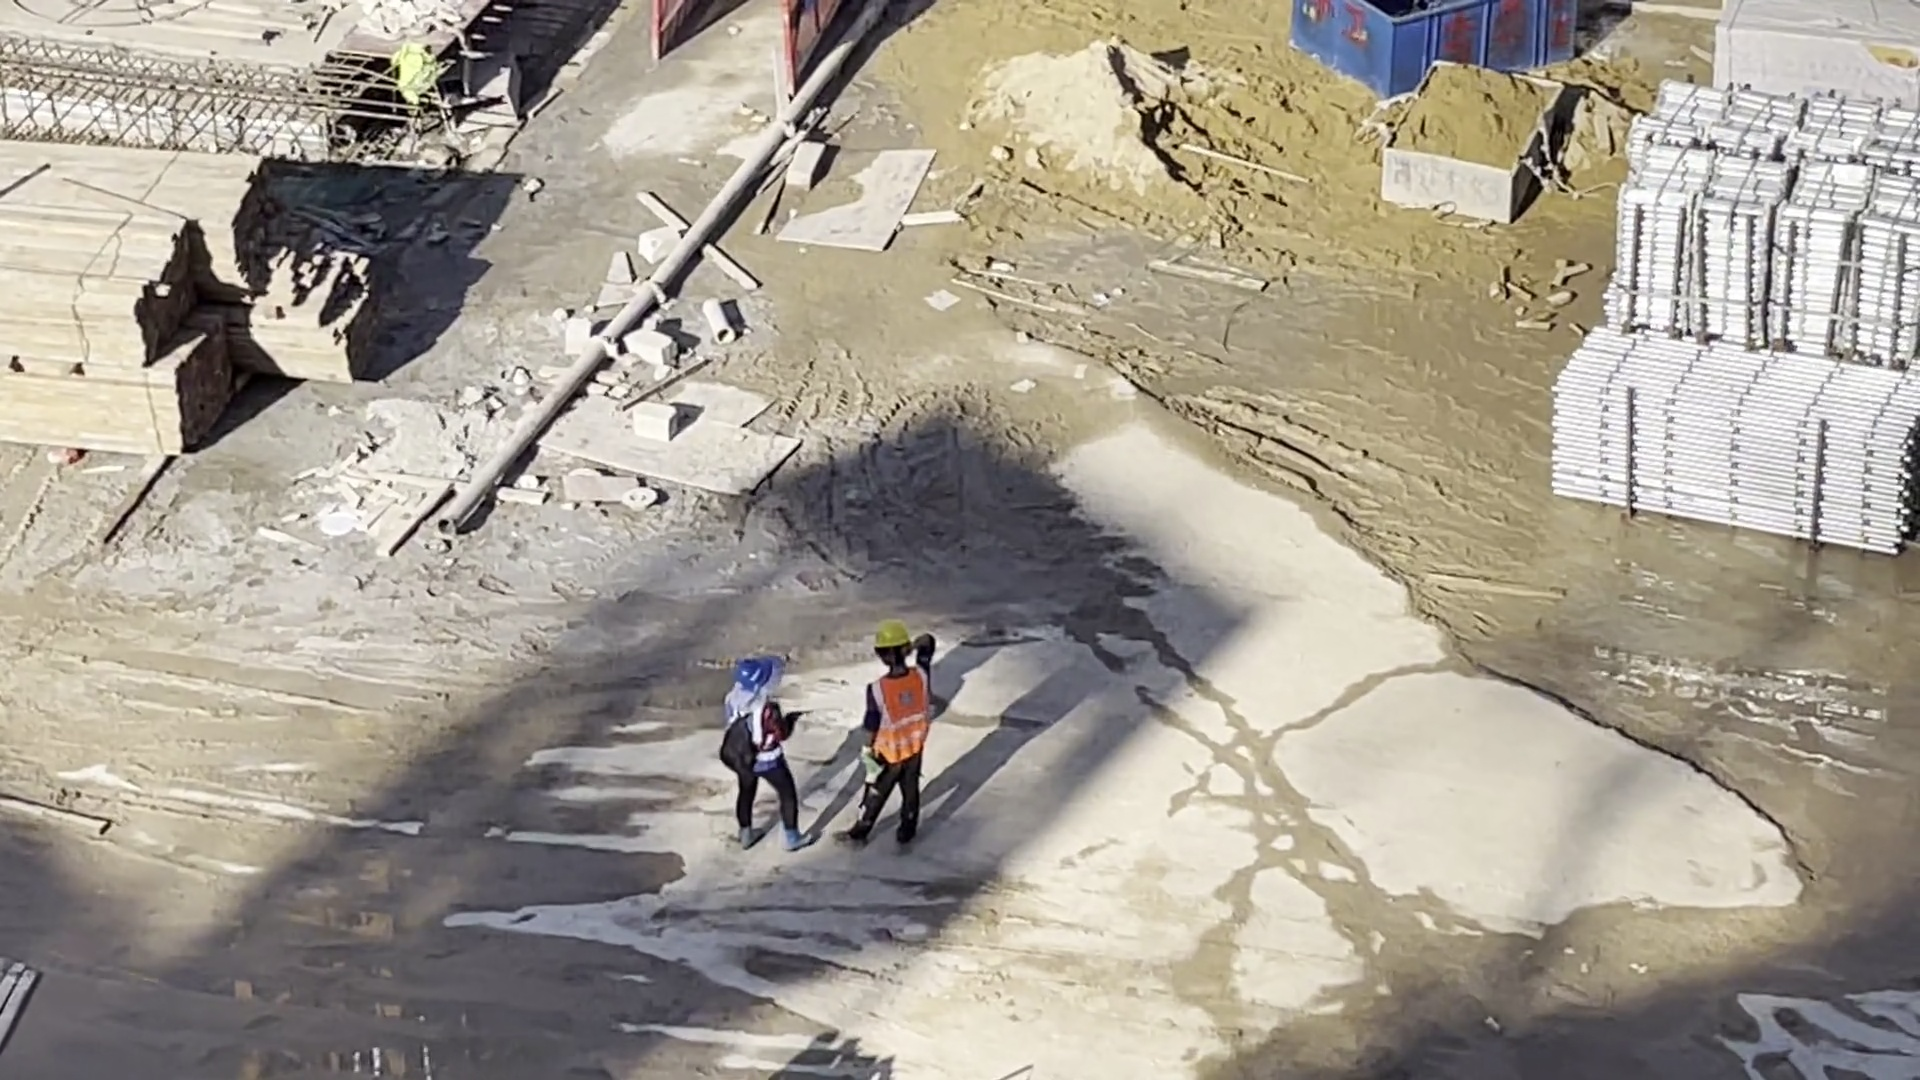fence: (655, 1, 848, 76)
helmet: (734, 657, 774, 692), (873, 620, 908, 645)
hopper: (1382, 58, 1563, 224), (1292, 1, 1579, 95)
person: (721, 657, 811, 850), (851, 629, 927, 846)
scaffold: (1619, 85, 1920, 366), (1548, 339, 1919, 560)
vest: (871, 669, 925, 762), (725, 700, 777, 774)
wood: (1, 148, 274, 420)
